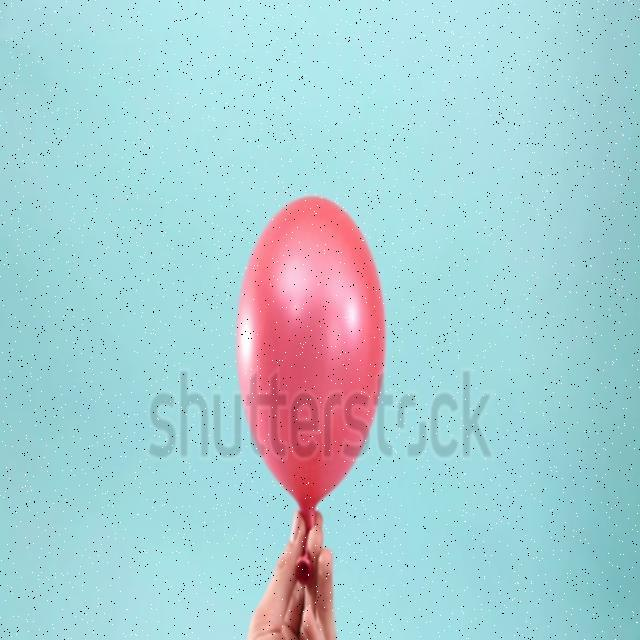red: (234, 194, 386, 528)
